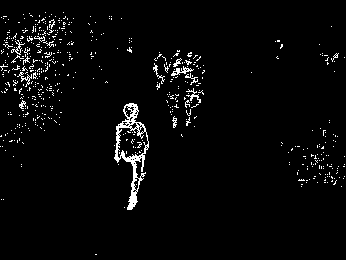person: (115, 102, 150, 212)
